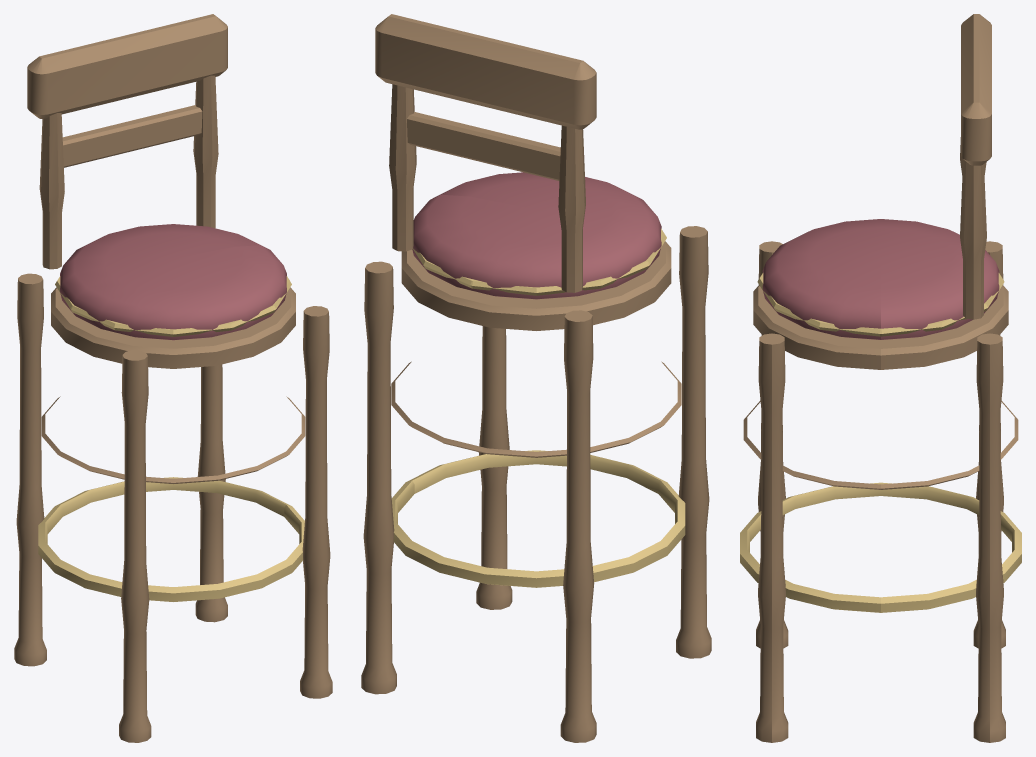
File: stool_bar_back.glb
3 renders of one model, left to right at view 1: azimuth 30°, elevation 25°; view 2: azimuth 150°, elevation 25°; view 3: azimuth 270°, elevation 25°, orthographic. The views are drawn at different scales.
Parts seen in each view (by area): view 1: bar-stool-with-back; view 2: bar-stool-with-back; view 3: bar-stool-with-back.
Boxes of the visible parts, x1,y1,x2,y2 form: bar-stool-with-back: (14,14,332,742); bar-stool-with-back: (361,14,711,742); bar-stool-with-back: (740,14,1021,742).
Bounding box in the file's own units: 0.464 × 1.13 × 0.457.
